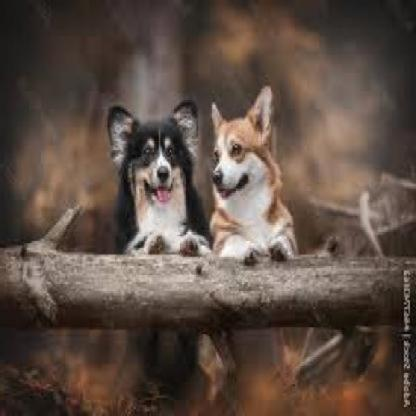dog: (207, 84, 300, 262)
